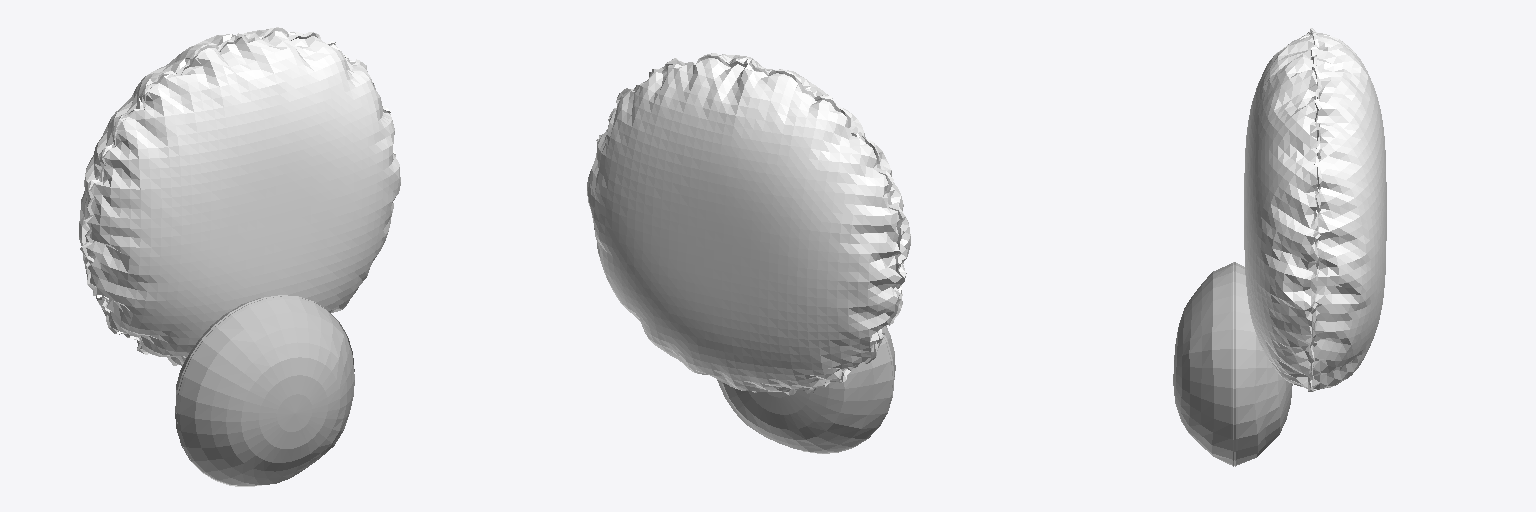
The model's file is smily face_obj.obj.
3 renders of one model, left to right at view 1: azimuth 30°, elevation 25°; view 2: azimuth 150°, elevation 25°; view 3: azimuth 270°, elevation 25°, orthographic.
Visible parts, largest first — view 1: circle_ballon.1, Connect; view 2: circle_ballon.1, Connect; view 3: circle_ballon.1, Connect.
Boxes of the visible parts, box(x1,y1,x2,y2) form: circle_ballon.1: box(79, 27, 400, 365); Connect: box(175, 295, 354, 486); circle_ballon.1: box(587, 53, 910, 395); Connect: box(717, 327, 895, 453); circle_ballon.1: box(1244, 28, 1386, 391); Connect: box(1173, 262, 1292, 466).
Bounding box in the file's own units: 352 × 447 × 208.